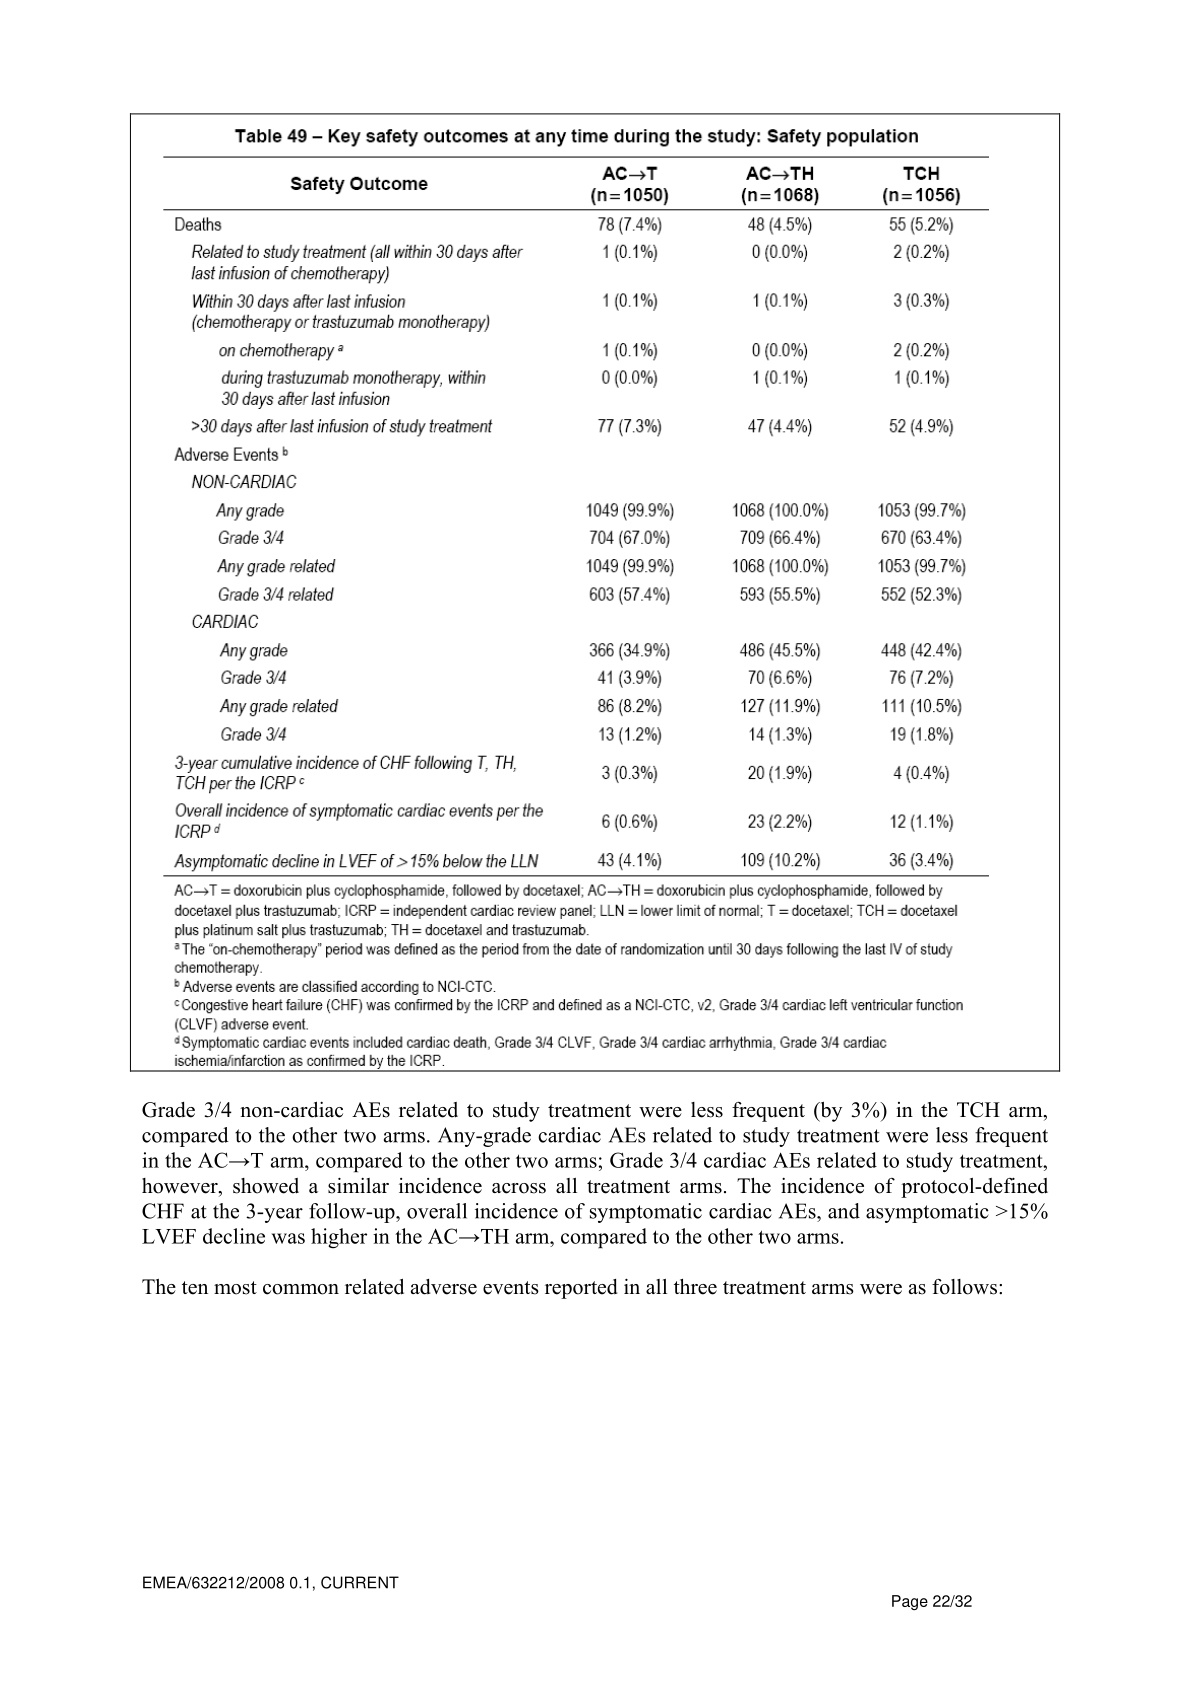partial_lined_merged_cells: (129, 112, 1061, 1072)
